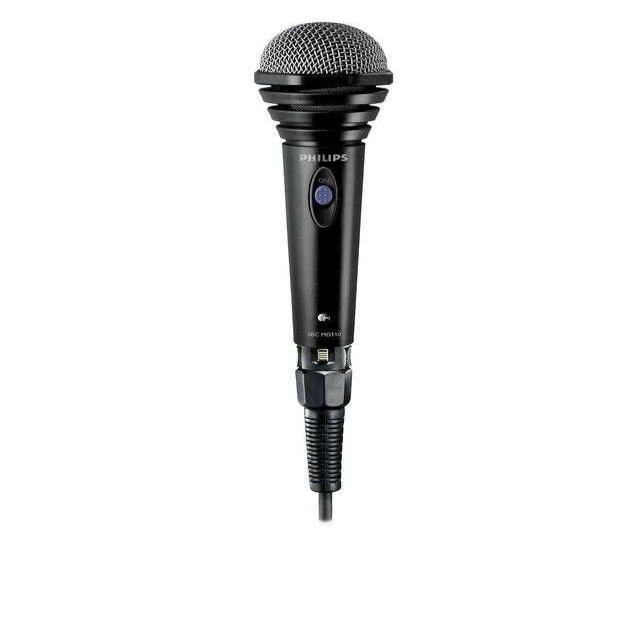microphone: (214, 3, 445, 520)
